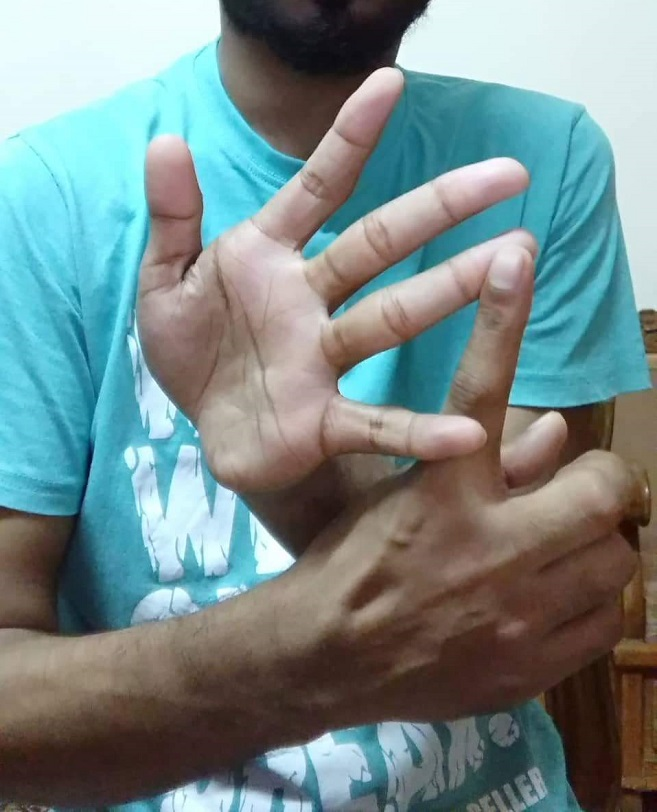e: (127, 71, 605, 703)
